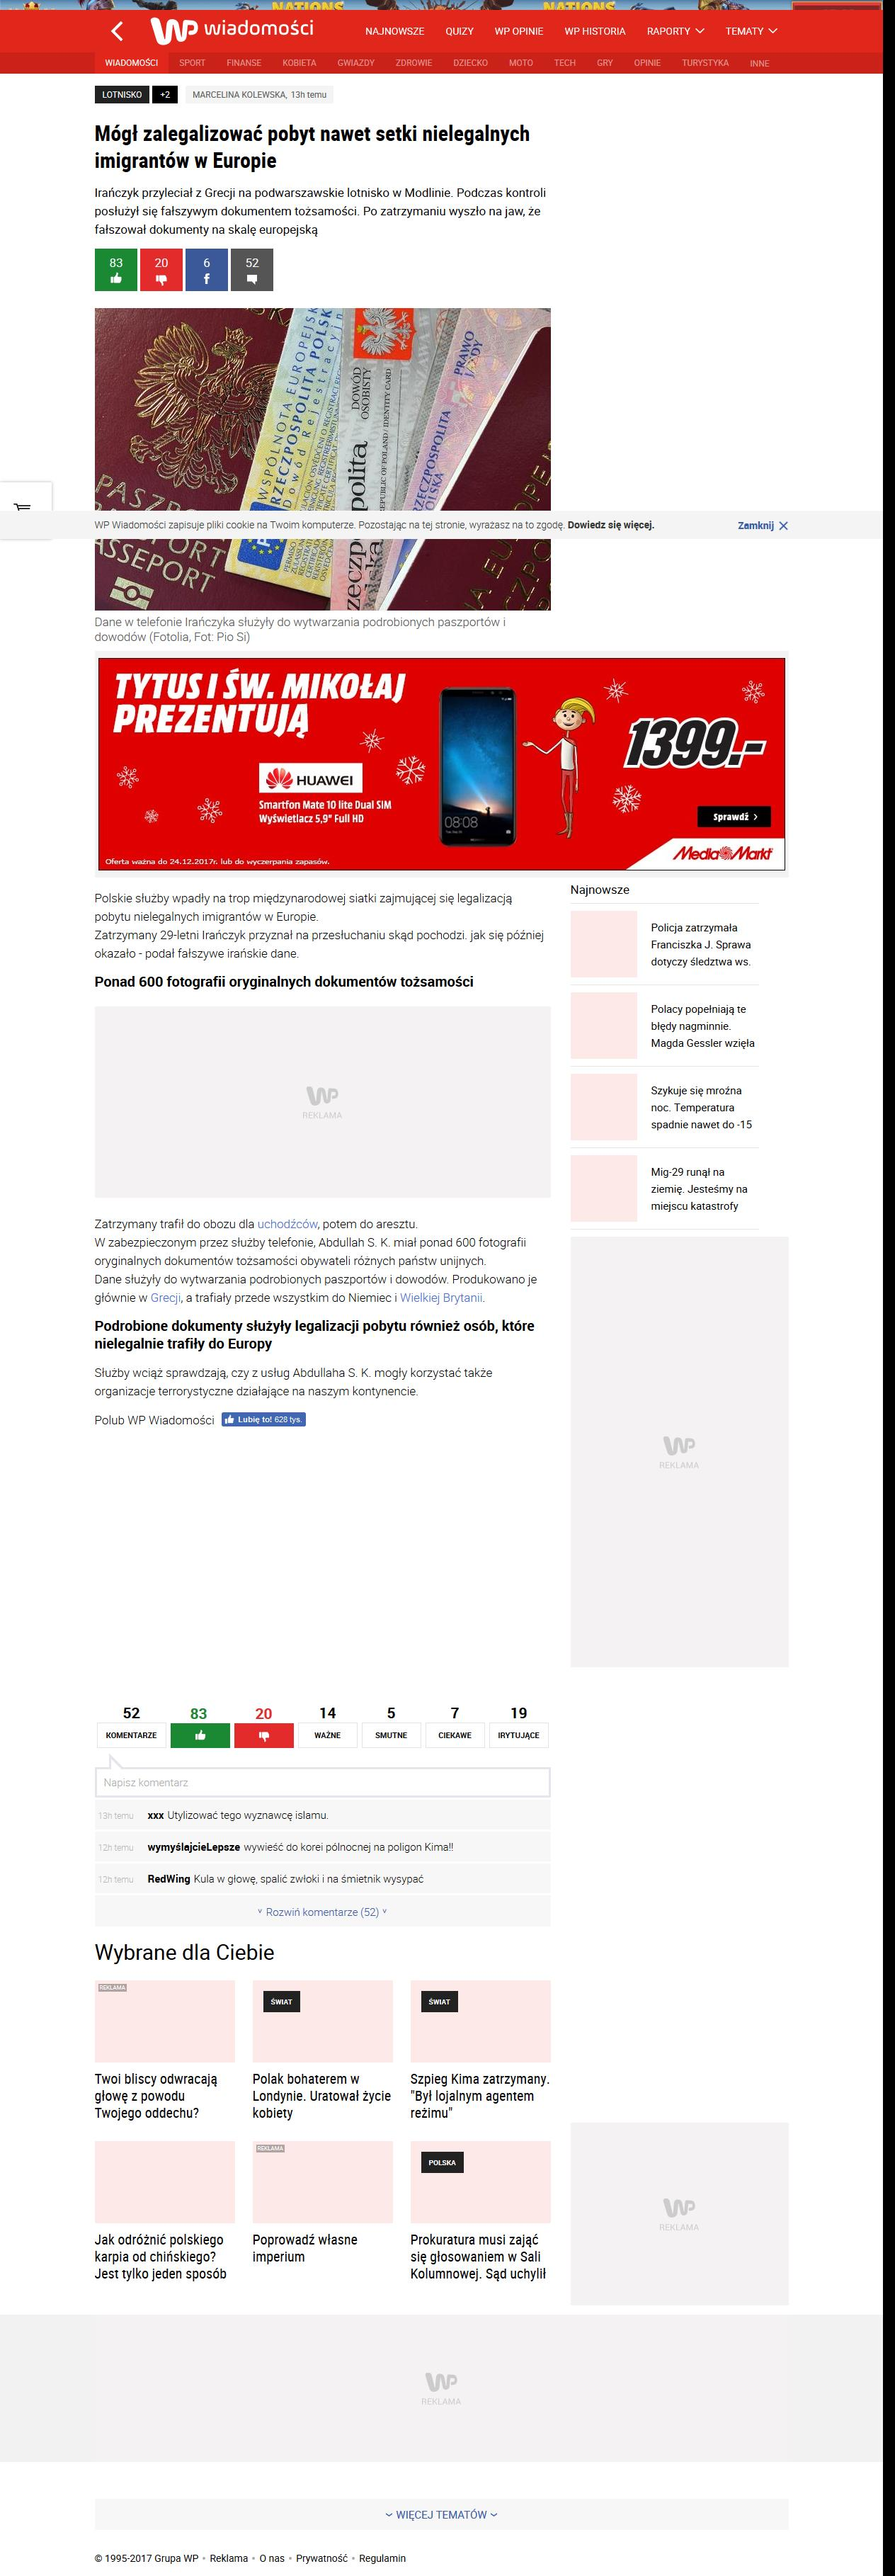title: (94, 123, 530, 171)
